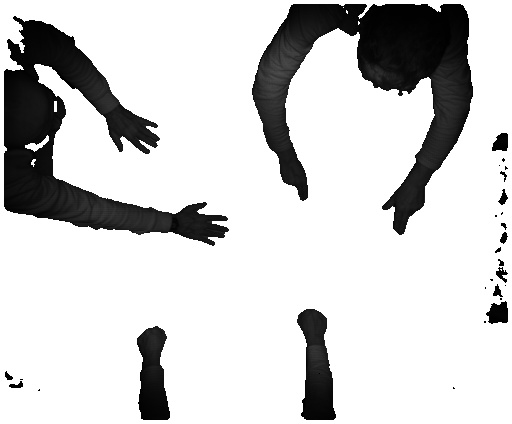fist: (136, 320, 167, 362), (296, 304, 327, 338)
hand: (376, 187, 428, 239), (178, 200, 231, 247), (110, 110, 159, 159), (280, 164, 311, 207)
